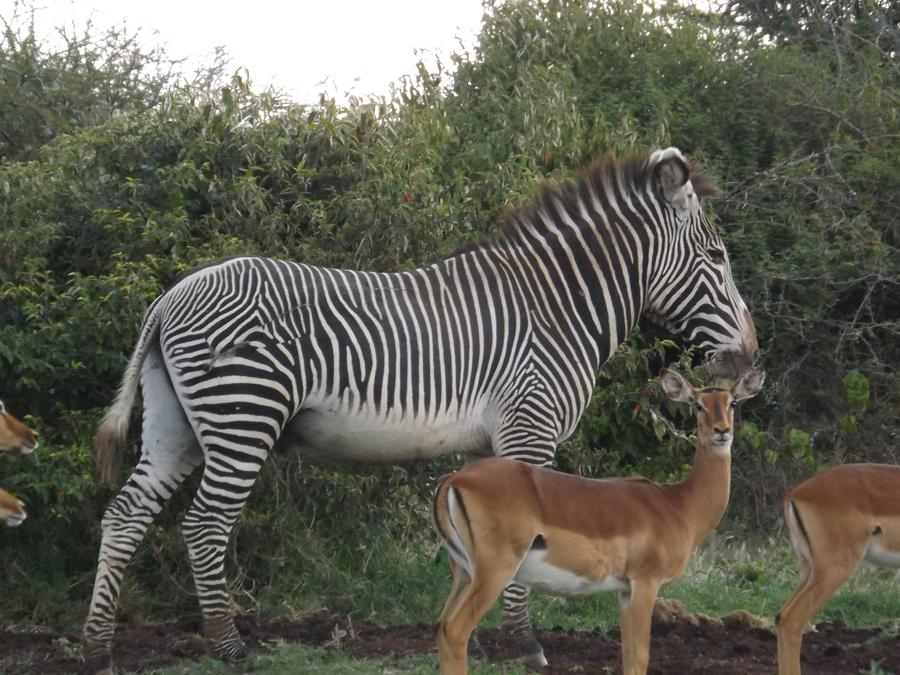zebra_grevys: (149, 239, 566, 445)
